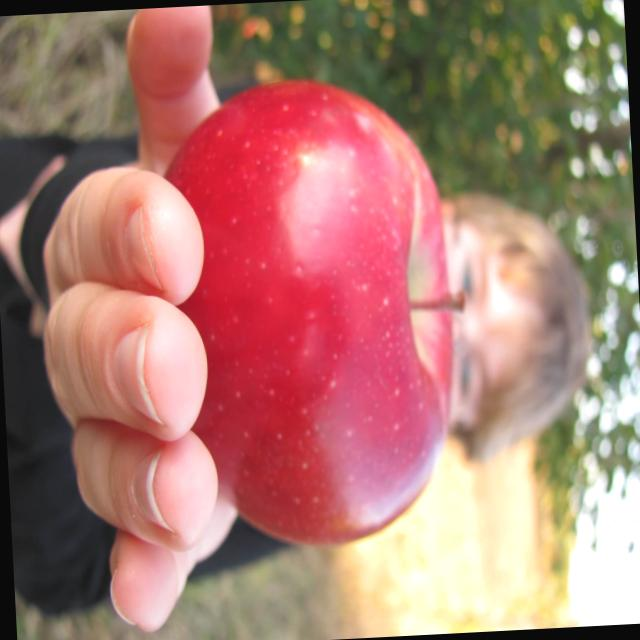alpple: (173, 76, 482, 562)
